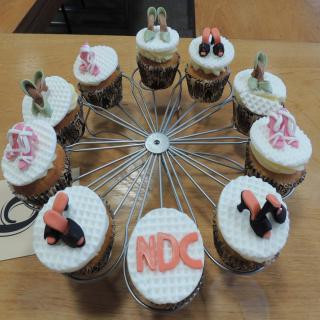Muffin: (0, 5, 313, 311)
